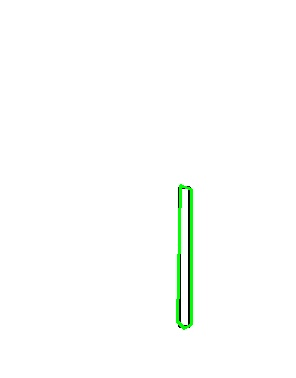line_segment: (177, 185, 192, 329)
